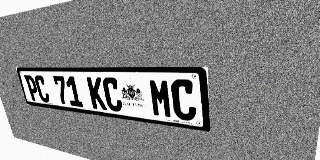1: (64, 76, 83, 107)
7: (52, 76, 71, 106)
C: (170, 79, 197, 122), (102, 77, 123, 112), (33, 75, 51, 103)
K: (86, 77, 107, 110)
M: (148, 79, 173, 119)
P: (24, 75, 41, 102)
